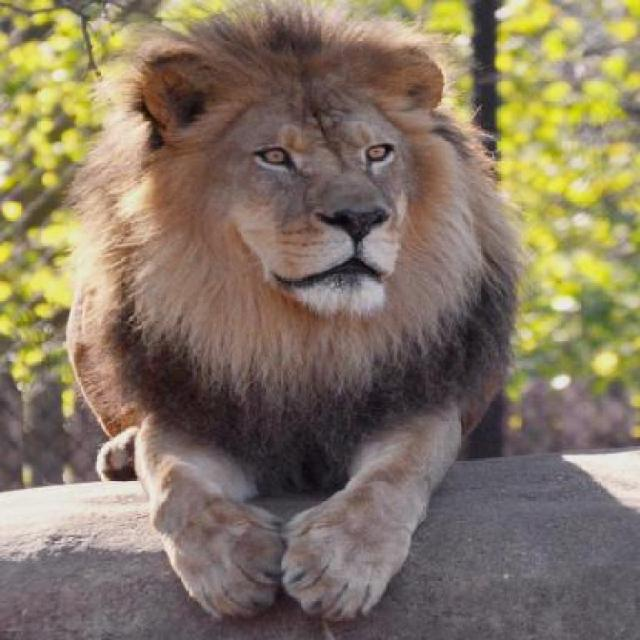Lion: (49, 9, 545, 638)
